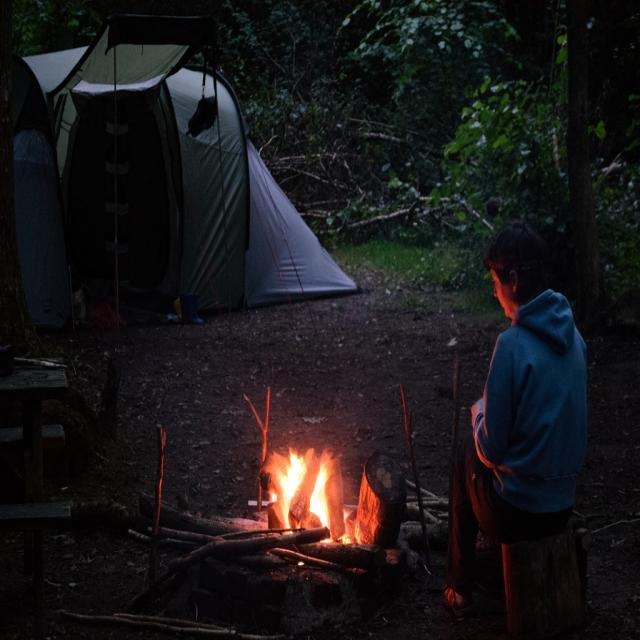Fire: (270, 453, 333, 526)
